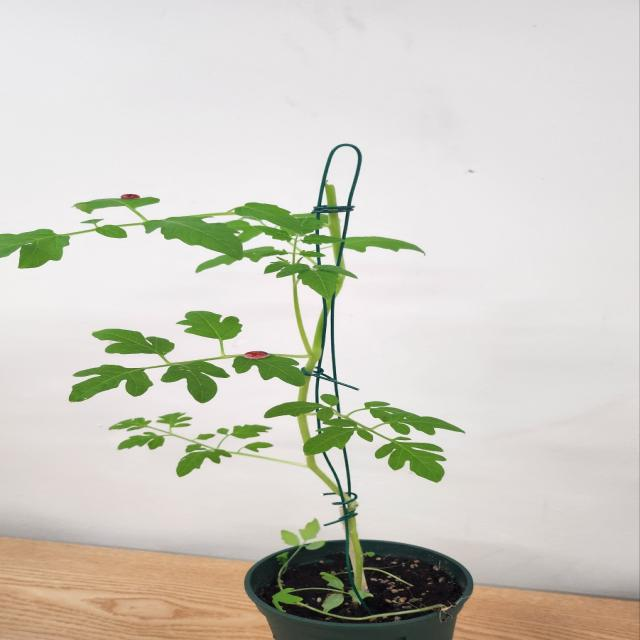bug: (221, 342, 285, 362), (107, 187, 159, 210)
